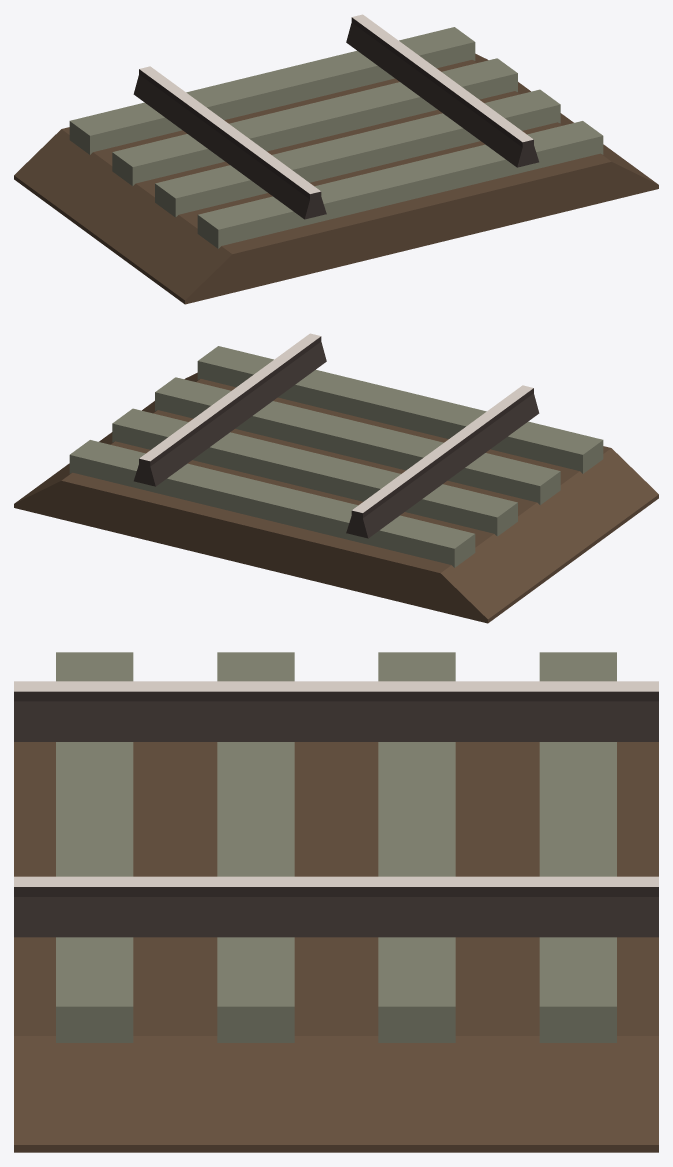
File: track.fbx
3 renders of one model, top to bottom at view 1: azimuth 30°, elevation 25°; view 2: azimuth 150°, elevation 25°; view 3: azimuth 270°, elevation 25°, orthographic. The views are drawn at different scales.
Parts seen in each view (by area): view 1: p401_track.001; view 2: p401_track.001; view 3: p401_track.001.
Part boxes in pixels (left/top/right/bottom): p401_track.001: left=14, top=14, right=658, bottom=304; p401_track.001: left=14, top=333, right=658, bottom=623; p401_track.001: left=14, top=652, right=658, bottom=1152.
Bounding box in the file's own units: 3.2 × 0.515 × 2.
